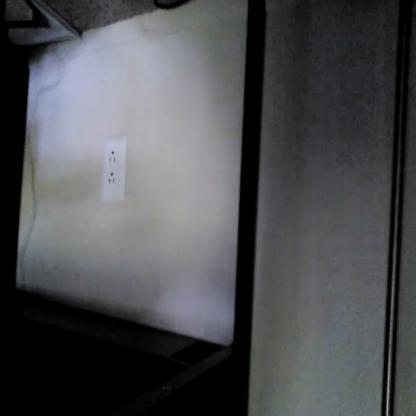OUTLET: (100, 140, 126, 204)
